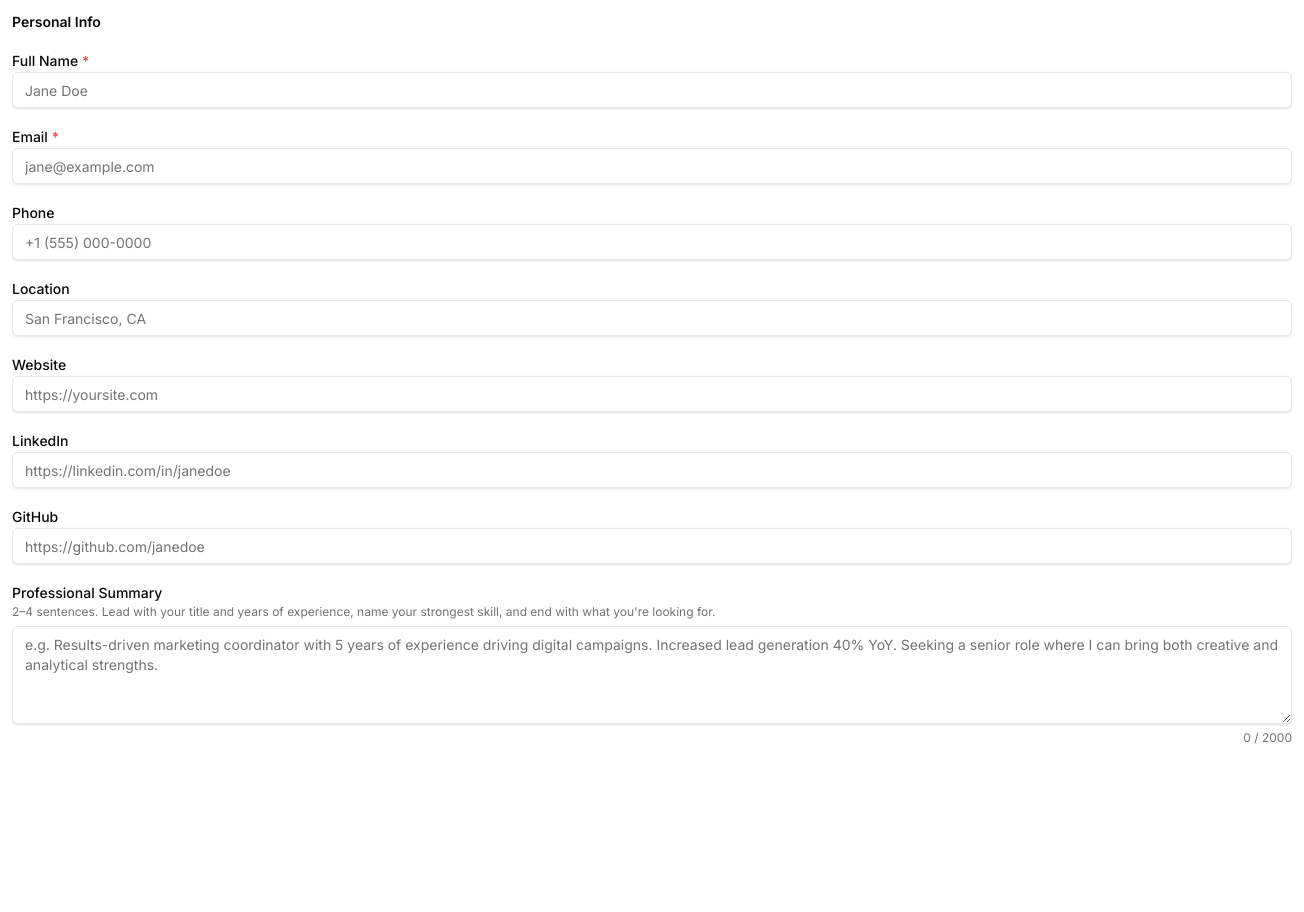
Test: PersonalInfoForm — URL field blur validation › shows error when linkedin has invalid URL
Type "linkedin.com/in/user" into the field with id "linkedin" at (652, 470), box [12,452,1292,488]
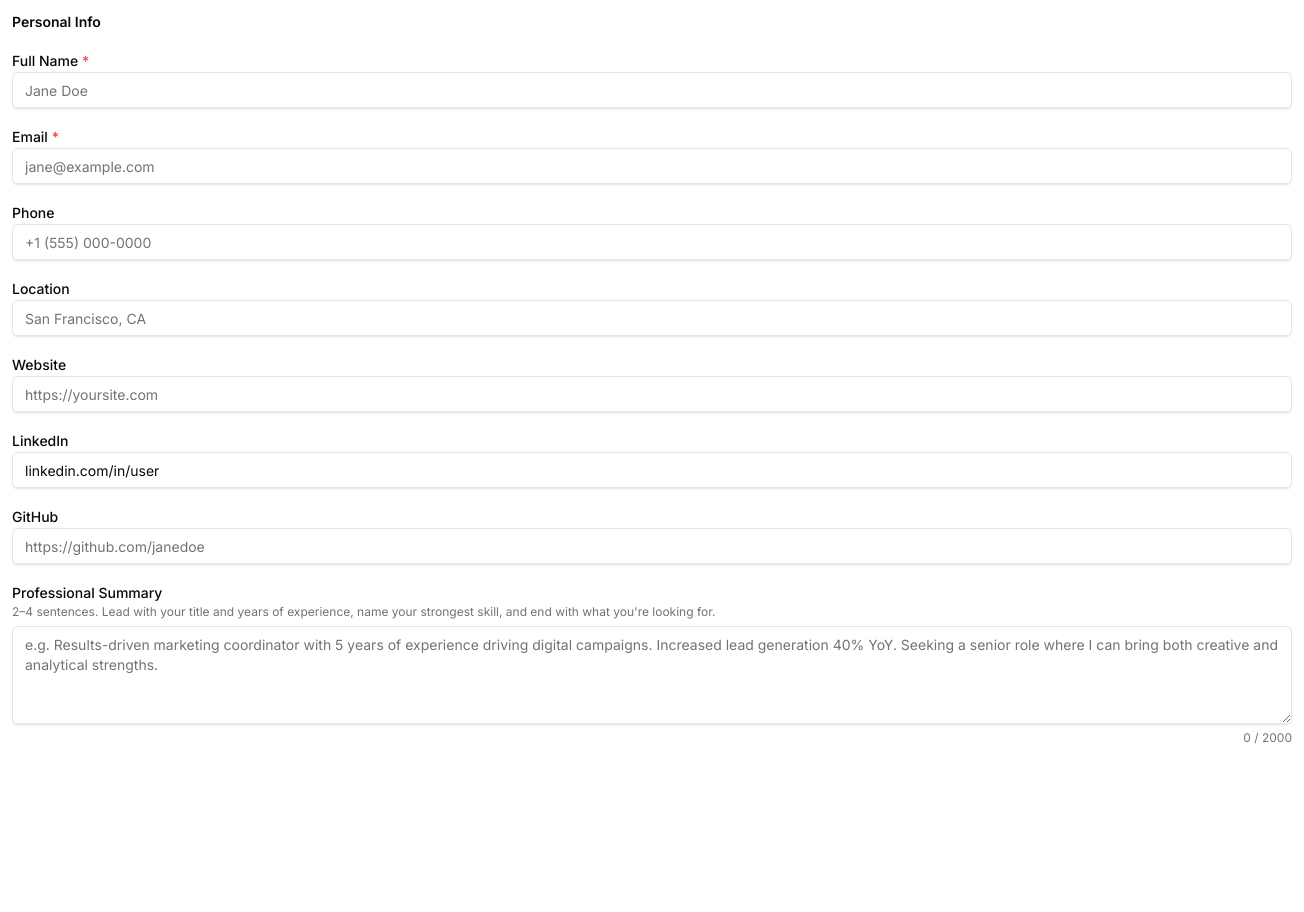
Leave the field with id "linkedin", box [12,452,1292,488]
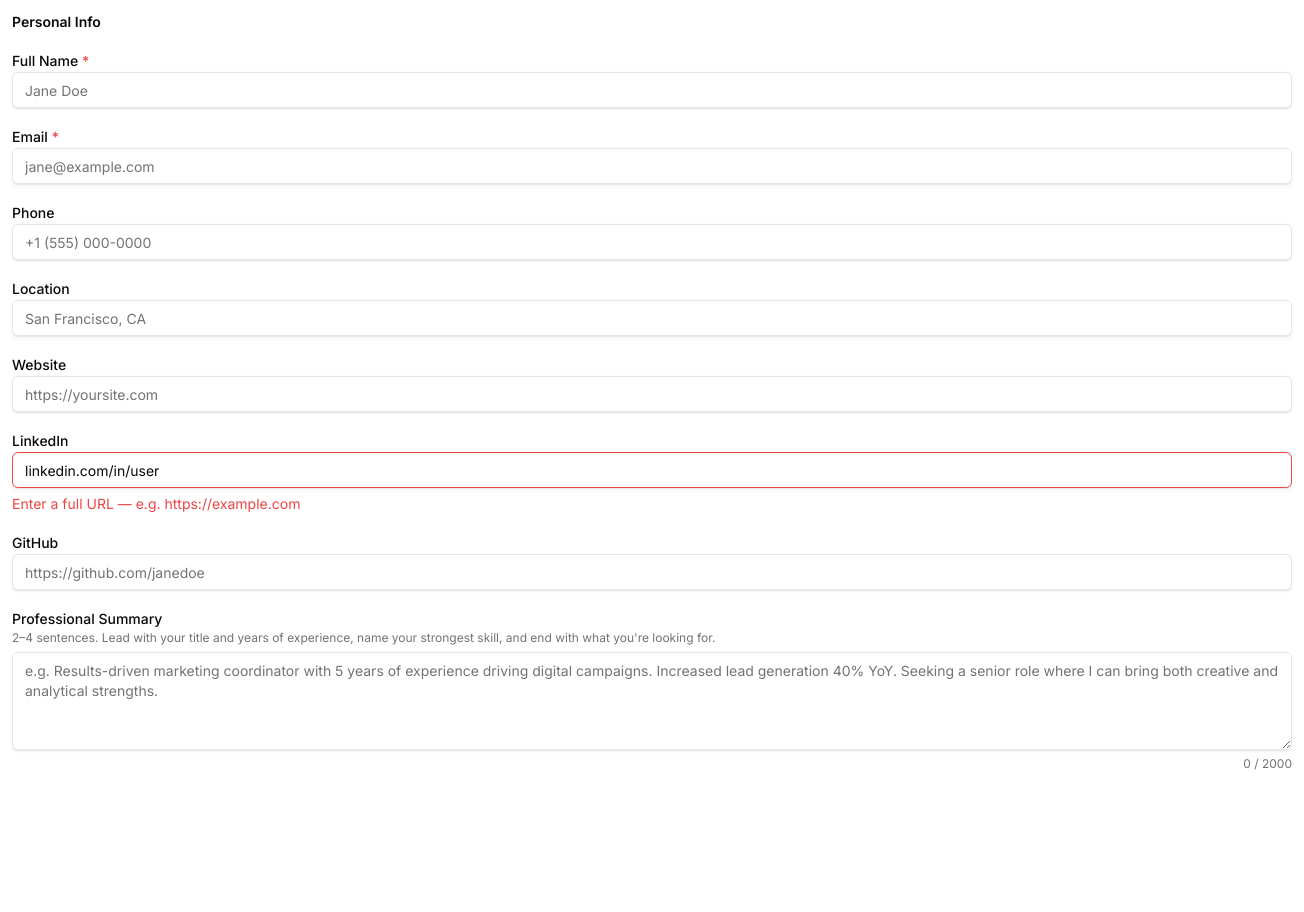
Check: the text "Enter a full URL — e.g. https://example.com" is shown, box [12,495,300,512]
